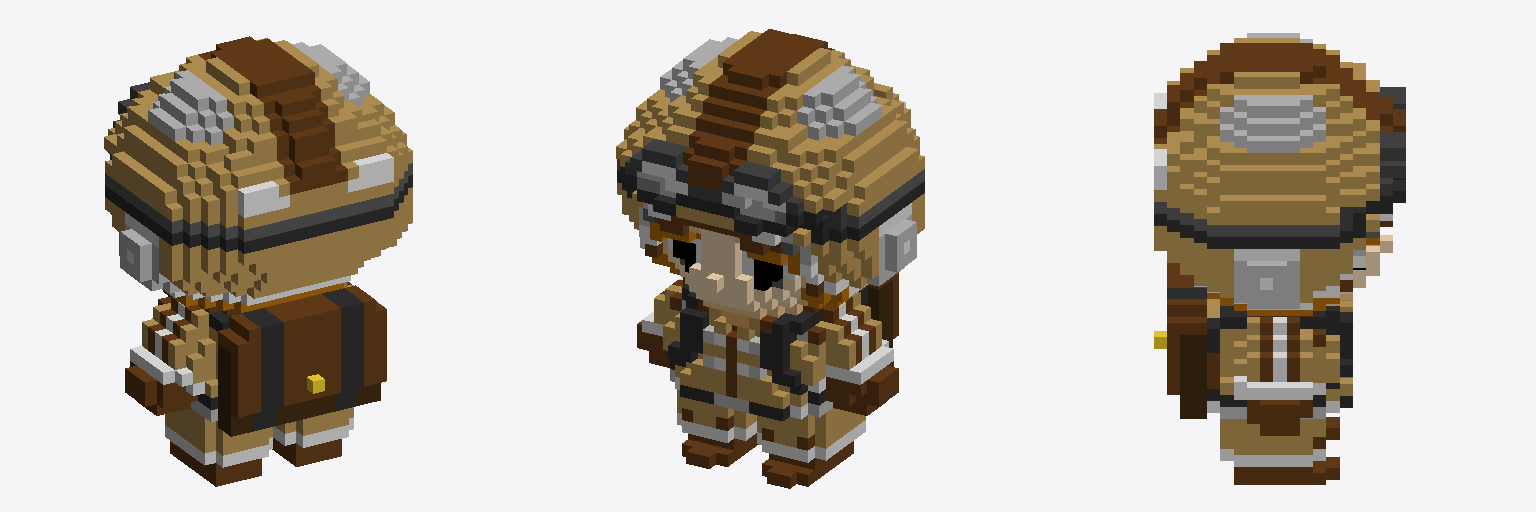
3 renders of one model, left to right at view 1: azimuth 30°, elevation 25°; view 2: azimuth 150°, elevation 25°; view 3: azimuth 270°, elevation 25°, orthographic.
Parts seen in each view (by area): view 1: object 1; view 2: object 1; view 3: object 1.
Boxes of the visible parts, x1=… form: object 1: x1=104, y1=36, x2=412, y2=486; object 1: x1=616, y1=29, x2=924, y2=488; object 1: x1=1154, y1=33, x2=1405, y2=484.
Size of the model in its own units: 2.3 by 3.3 by 1.9.
1 materials, 1 textured.